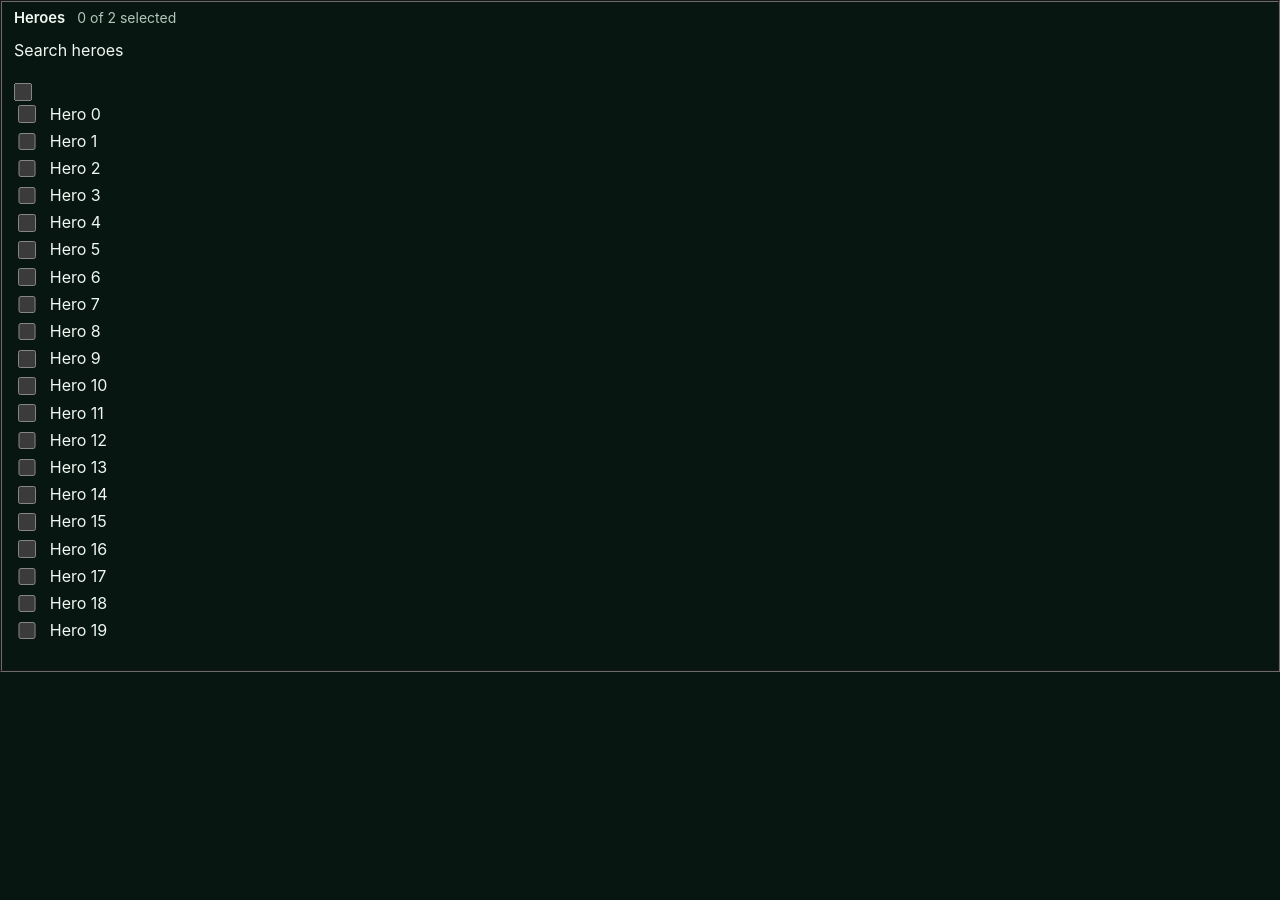
searches without losing selections, enforces the bound, and restores focus after removal
Click the checkbox labelled "Hero 2": x=27, y=168 [18,160,36,177]
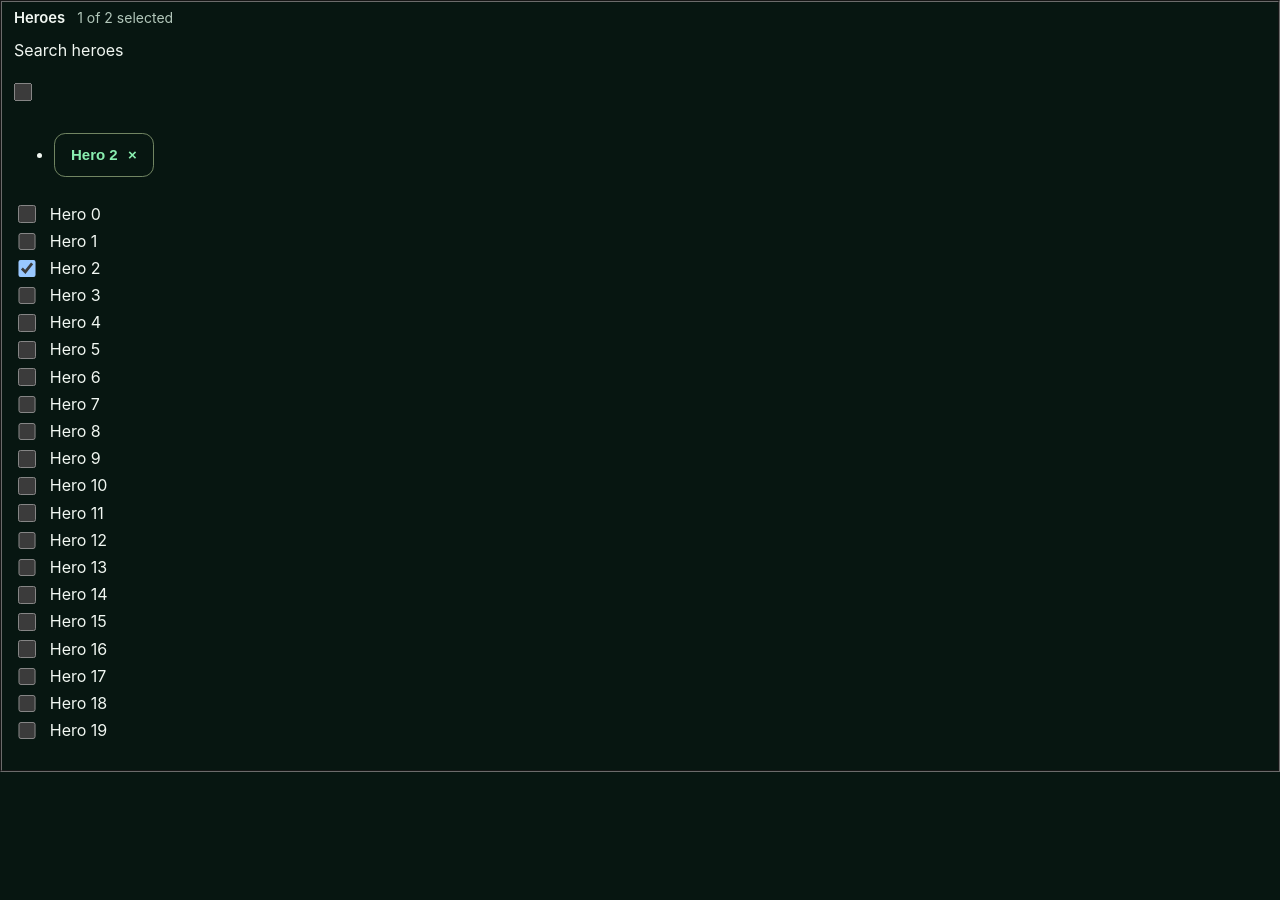
In the search field: x=23, y=92 [14,83,32,100], type "Hero 19"
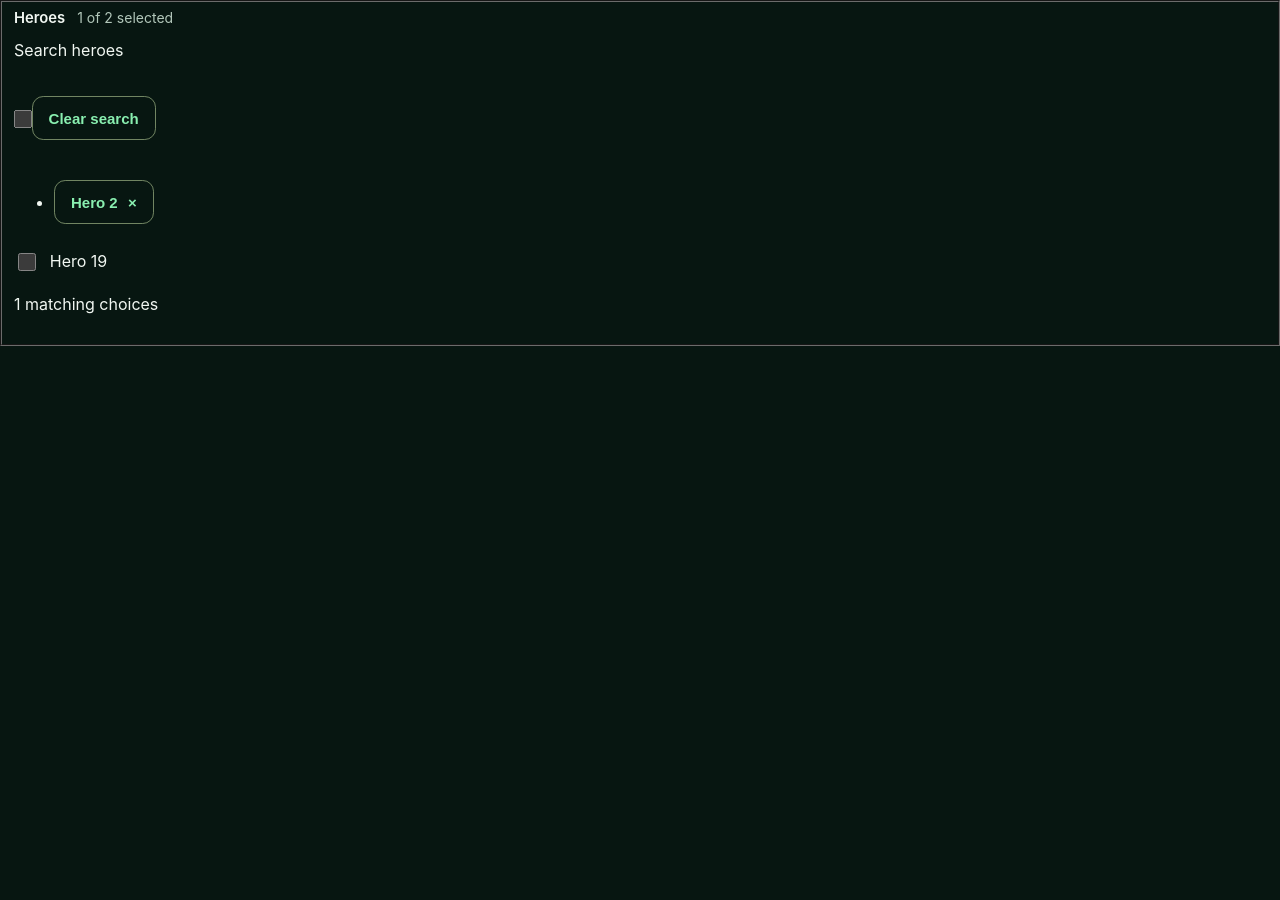
Expected: the button with aria-label "Remove Hero 2" is shown, [54,180,154,224]
Click the checkbox labelled "Hero 19": x=27, y=262 [18,253,36,271]
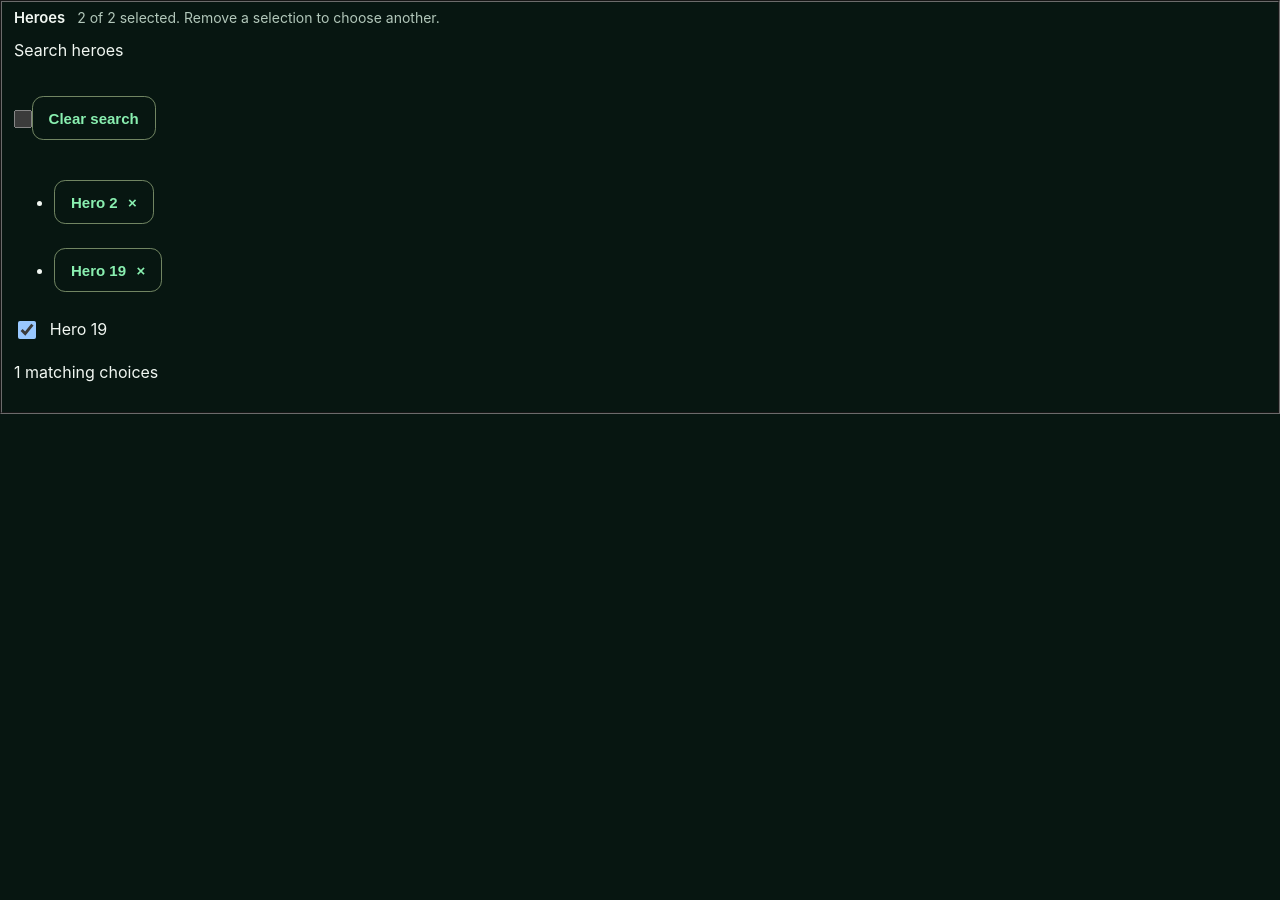
Expected: the text "2 of 2 selected. Remove a selection to choose another." is shown, [77,8,440,28]
Click the button "Clear search": x=94, y=118 [32,96,156,140]
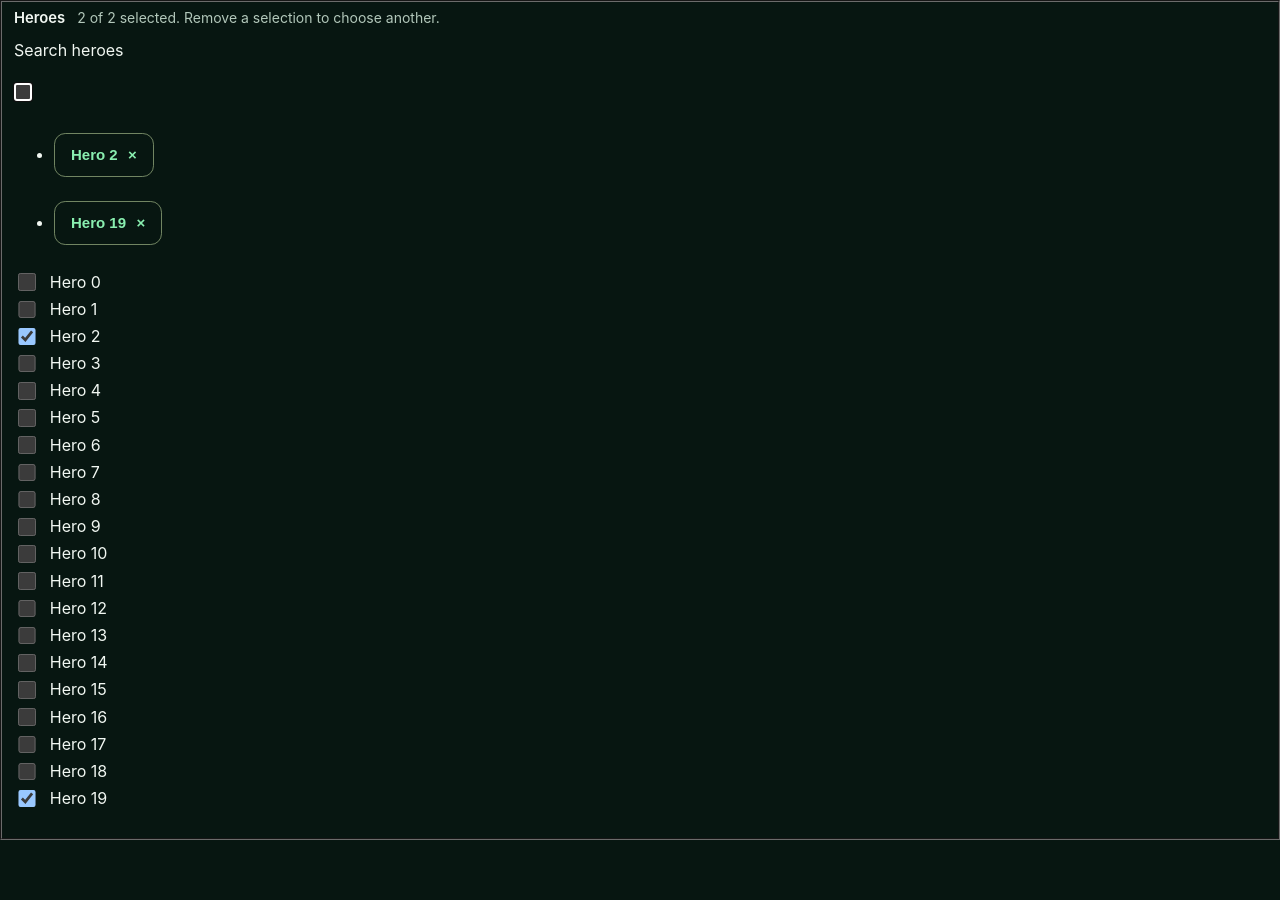
Expected: the checkbox labelled "Hero 3" is disabled, [18,355,36,372]
Click the button with aria-label "Remove Hero 2": x=104, y=154 [54,132,154,176]
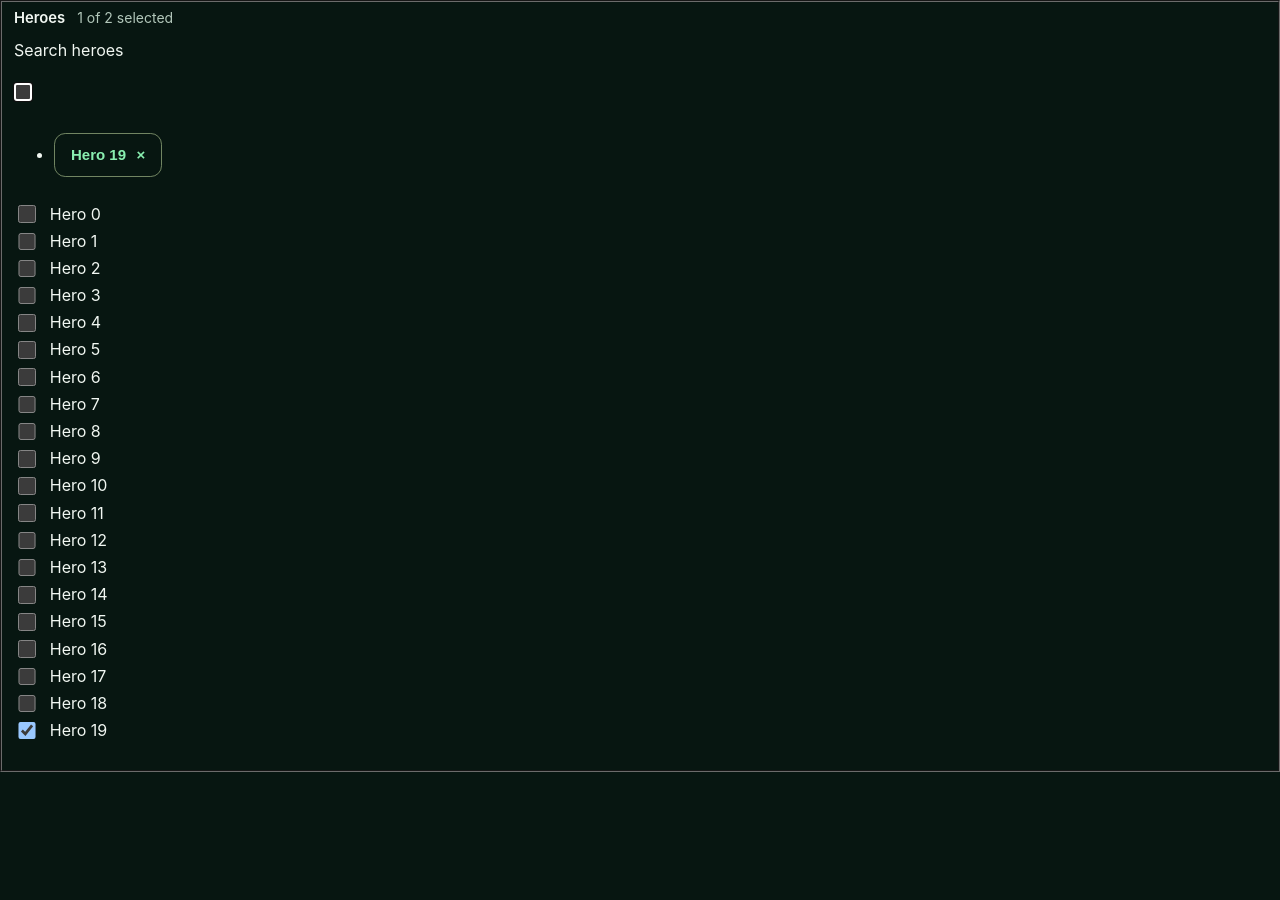
Expected: the checkbox labelled "Hero 3" is enabled, [18,287,36,304]
Expected: the number of buttons is 1, [54,132,162,176]
